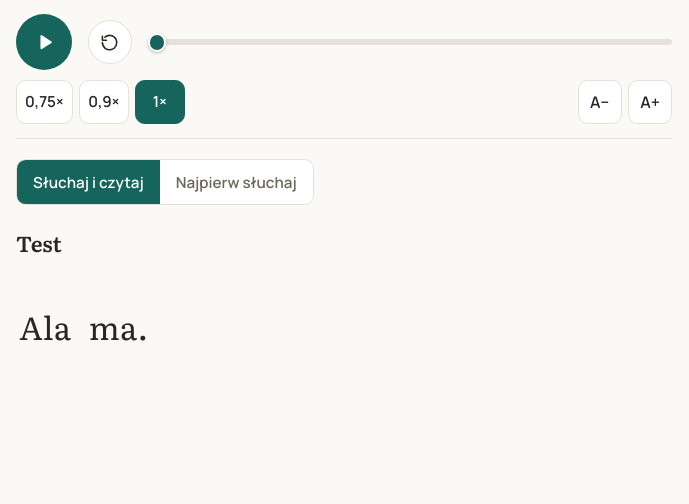
Test: Player › hides the text in listen-first mode until revealed
Click the button "Najpierw słuchaj": click(236, 182) [160, 160, 313, 204]
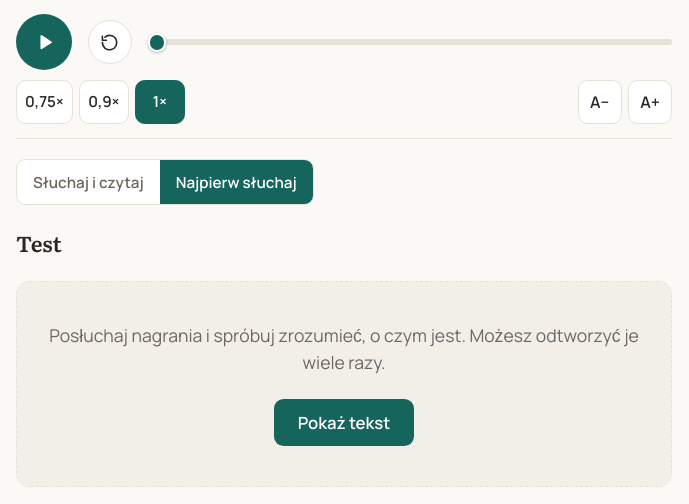
Check: no elements with test id "word" are shown
Click the button "Pokaż tekst": click(344, 423) [274, 399, 414, 446]
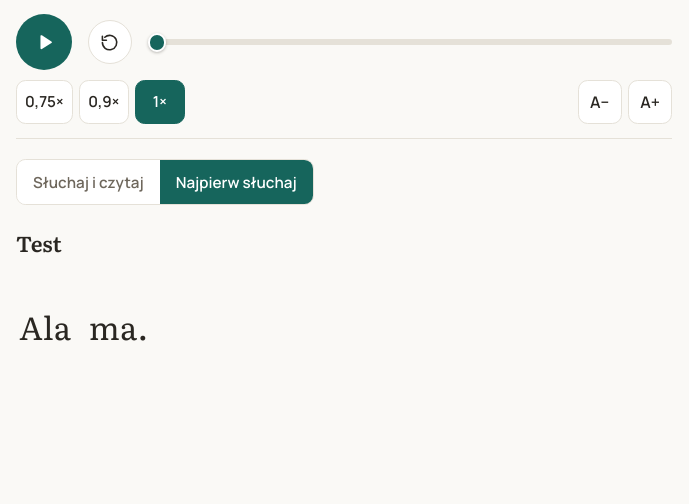
Check: the number of elements with test id "word" is 2, box [19, 301, 71, 349]; [86, 300, 152, 351]
